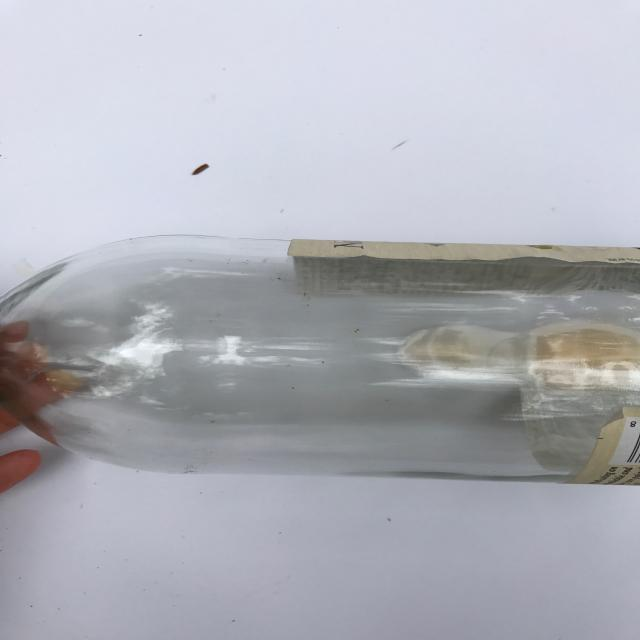glass: (1, 234, 640, 483)
